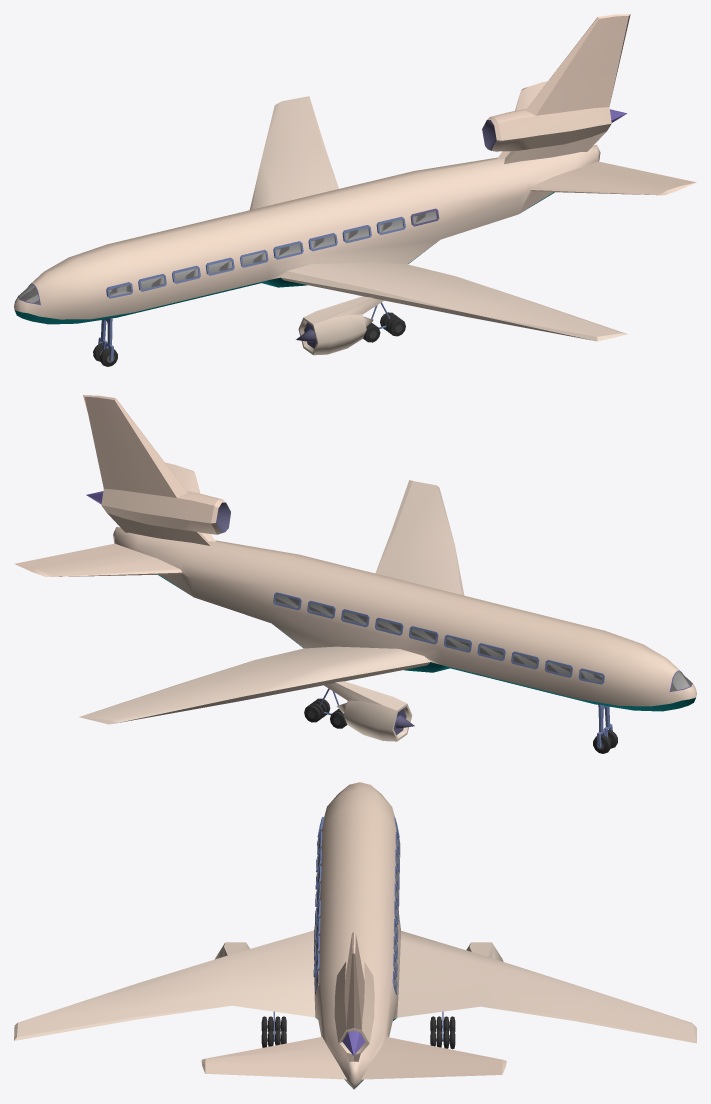
The picture shows the model from 3 angles, top to bottom: view 1: azimuth 30°, elevation 25°; view 2: azimuth 150°, elevation 25°; view 3: azimuth 270°, elevation 25°; orthographic projection. The views are drawn at different scales.
Parts seen in each view (by area): view 1: Plane_3_G; view 2: Plane_3_G; view 3: Plane_3_G.
Boxes of the visible parts, x1=… form: Plane_3_G: x1=14, y1=14, x2=696, y2=366; Plane_3_G: x1=14, y1=395, x2=696, y2=753; Plane_3_G: x1=14, y1=782, x2=696, y2=1089.
Size of the model in its own units: 2712 by 969 by 2481.
